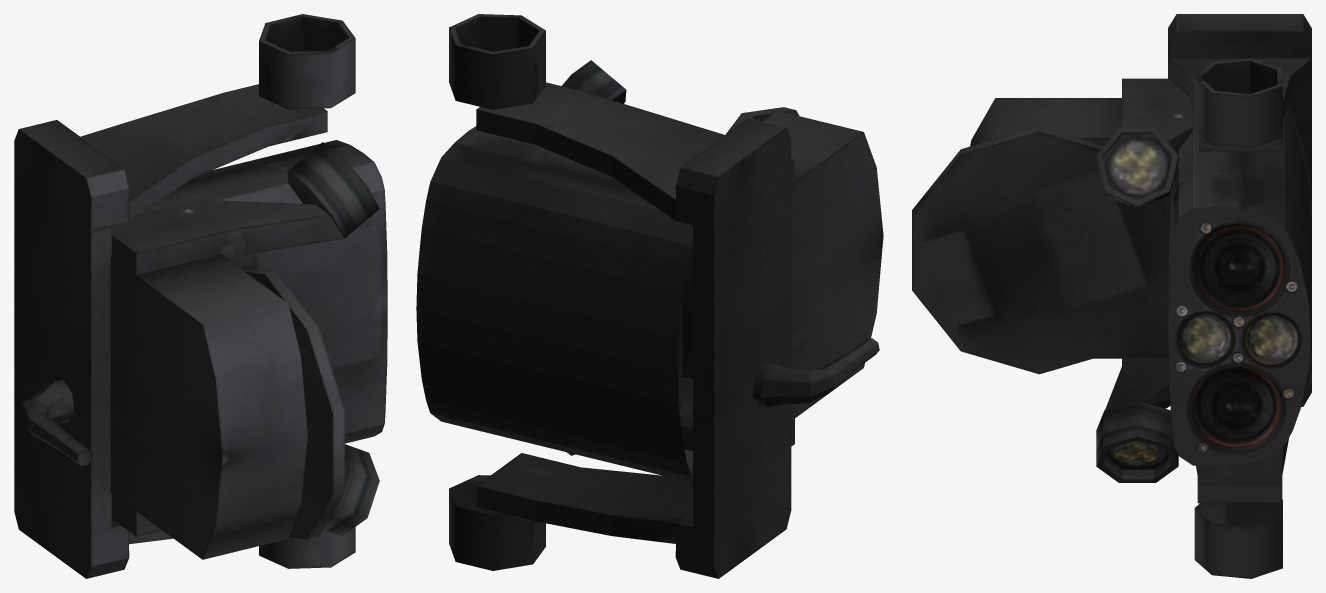
The model's file is head.dae.
The picture shows the model from 3 angles, left to right: view 1: azimuth 30°, elevation 25°; view 2: azimuth 150°, elevation 25°; view 3: azimuth 270°, elevation 25°; orthographic projection. The views are drawn at different scales.
Visible parts, largest first — view 1: head; view 2: head; view 3: head.
Part boxes in pixels (box(x1,y1,x2,y2)): head: box(14, 14, 387, 578); head: box(416, 14, 883, 578); head: box(912, 14, 1311, 578).
Size of the model in its own units: 0.1679 by 0.235 by 0.1765.
Materials: 1 (1 with a texture image).
